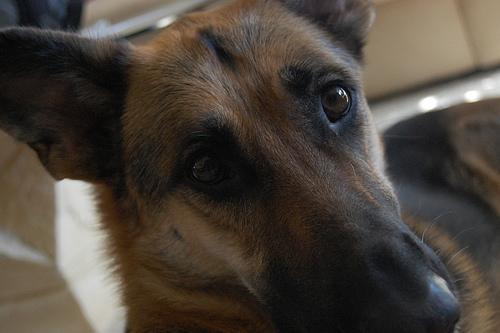German_shepherd: (1, 1, 498, 331)
